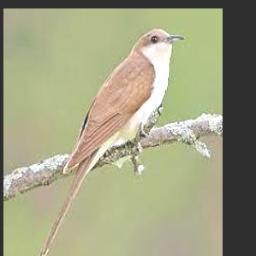Cuckoo: (36, 28, 185, 256)
